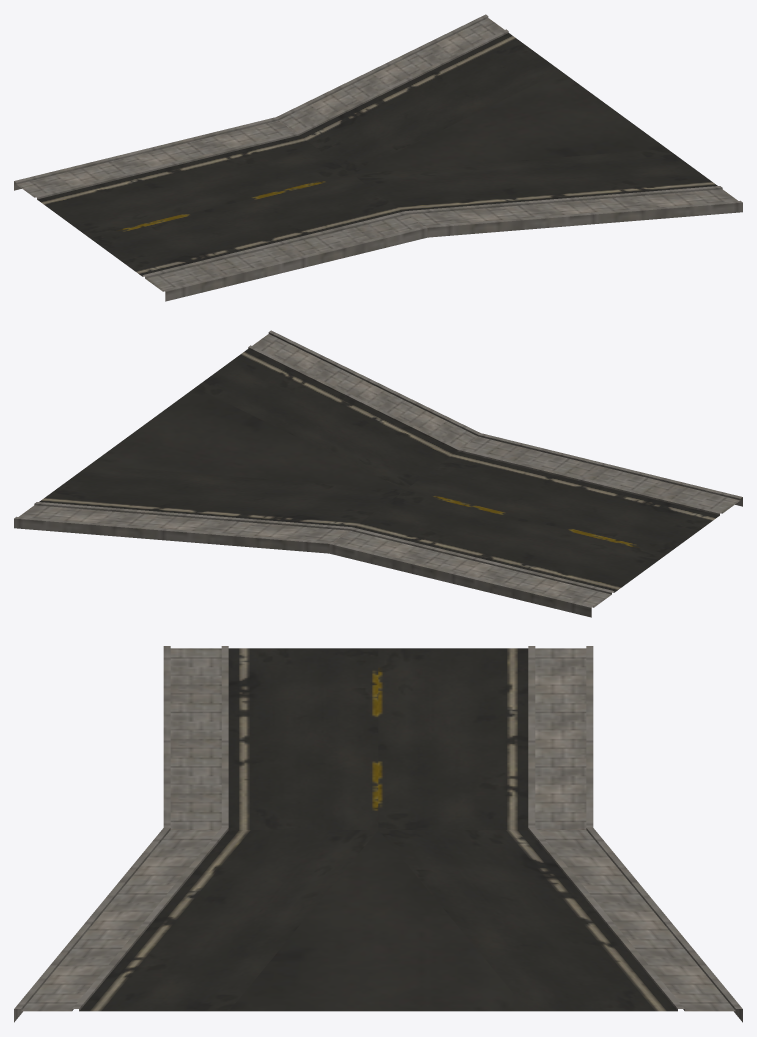
File: RoadWidening.obj
3 renders of one model, top to bottom at view 1: azimuth 30°, elevation 25°; view 2: azimuth 150°, elevation 25°; view 3: azimuth 270°, elevation 25°, orthographic. The views are drawn at different scales.
Visible parts, largest first — view 1: 7_Road-Widening; view 2: 7_Road-Widening; view 3: 7_Road-Widening.
Part boxes in pixels (<box>): 7_Road-Widening: <box>14,14,742,301</box>; 7_Road-Widening: <box>14,330,742,617</box>; 7_Road-Widening: <box>14,646,742,1022</box>.
Size of the model in its own units: 1.24 by 0.0219 by 1.05.
1 material, 1 textured.
